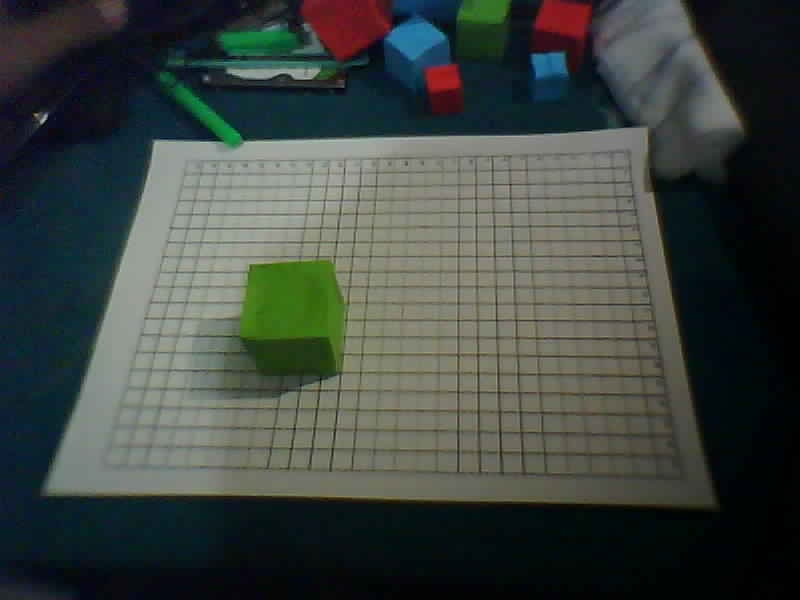LB: (101, 462, 109, 468)
LT: (183, 158, 191, 164)
RB: (679, 474, 687, 480)
RT: (625, 150, 633, 156)
